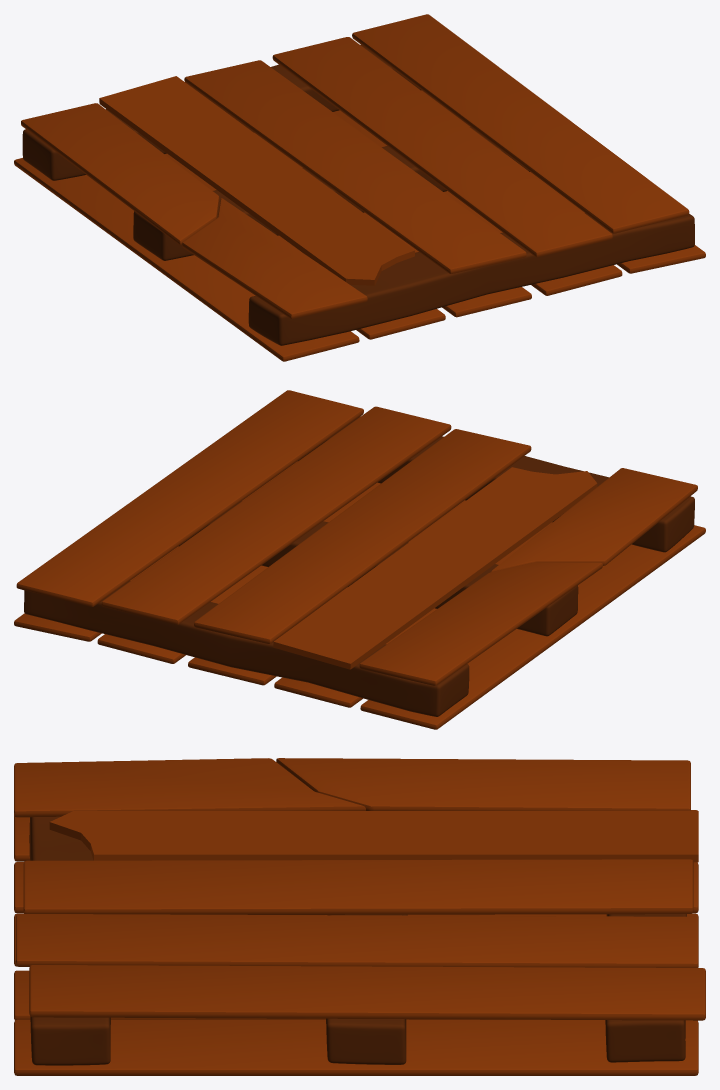
Rendered from PALET.fbx.
3 renders of one model, top to bottom at view 1: azimuth 30°, elevation 25°; view 2: azimuth 150°, elevation 25°; view 3: azimuth 270°, elevation 25°, orthographic. The views are drawn at different scales.
Visible parts, largest first — view 1: PALET; view 2: PALET; view 3: PALET.
Part boxes in pixels (x1=…): PALET: x1=14, y1=14, x2=705, y2=361; PALET: x1=14, y1=390, x2=705, y2=729; PALET: x1=14, y1=758, x2=705, y2=1075.
Size of the model in its own units: 96.73 by 10.8 by 108.
